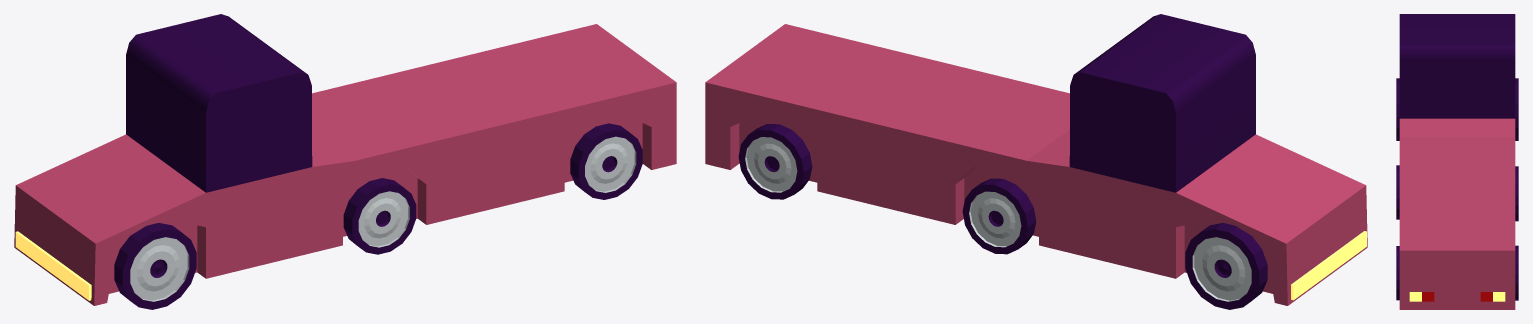
File: FinalTruck.fbx
3 renders of one model, left to right at view 1: azimuth 30°, elevation 25°; view 2: azimuth 150°, elevation 25°; view 3: azimuth 270°, elevation 25°, orthographic. The views are drawn at different scales.
Visible parts, largest first — view 1: Truck_4_sq_Scaled; view 2: Truck_4_sq_Scaled; view 3: Truck_4_sq_Scaled.
Boxes of the visible parts, x1=… form: Truck_4_sq_Scaled: x1=14, y1=14, x2=676, y2=309; Truck_4_sq_Scaled: x1=705, y1=14, x2=1367, y2=309; Truck_4_sq_Scaled: x1=1396, y1=14, x2=1518, y2=309.
Bounding box in the file's own units: 3.94 × 1.29 × 0.9846.
